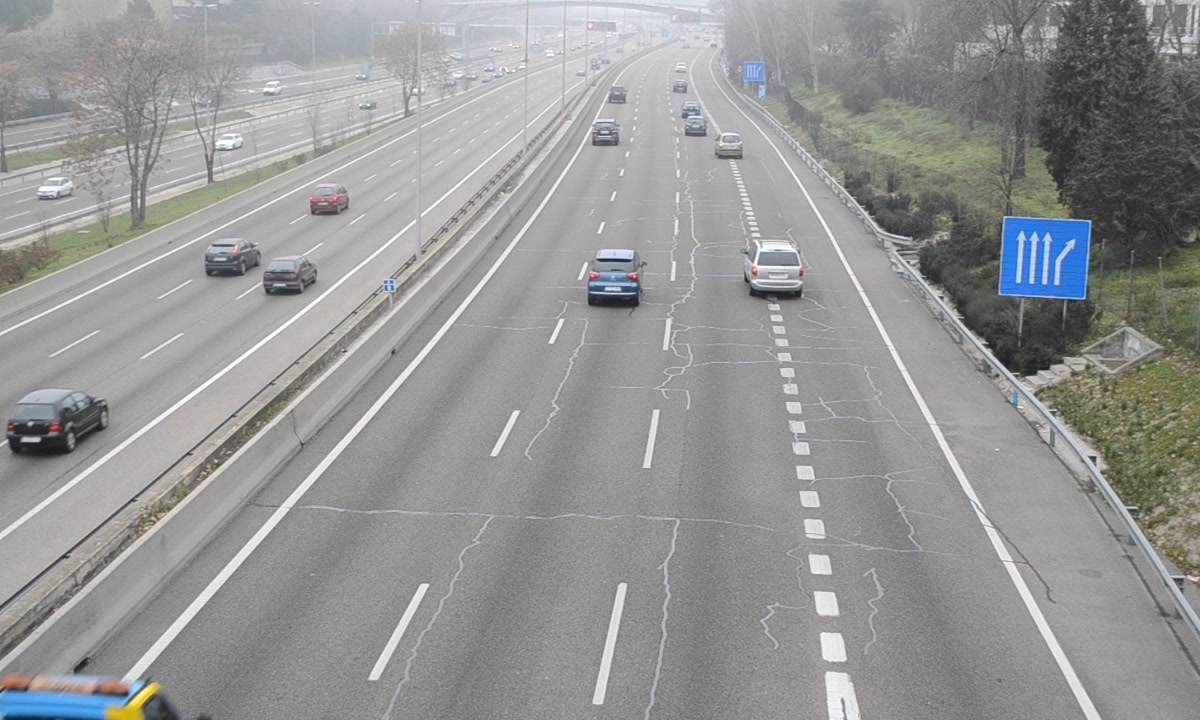car: (746, 240, 804, 293), (586, 249, 641, 302), (590, 118, 620, 147), (715, 131, 743, 159)
